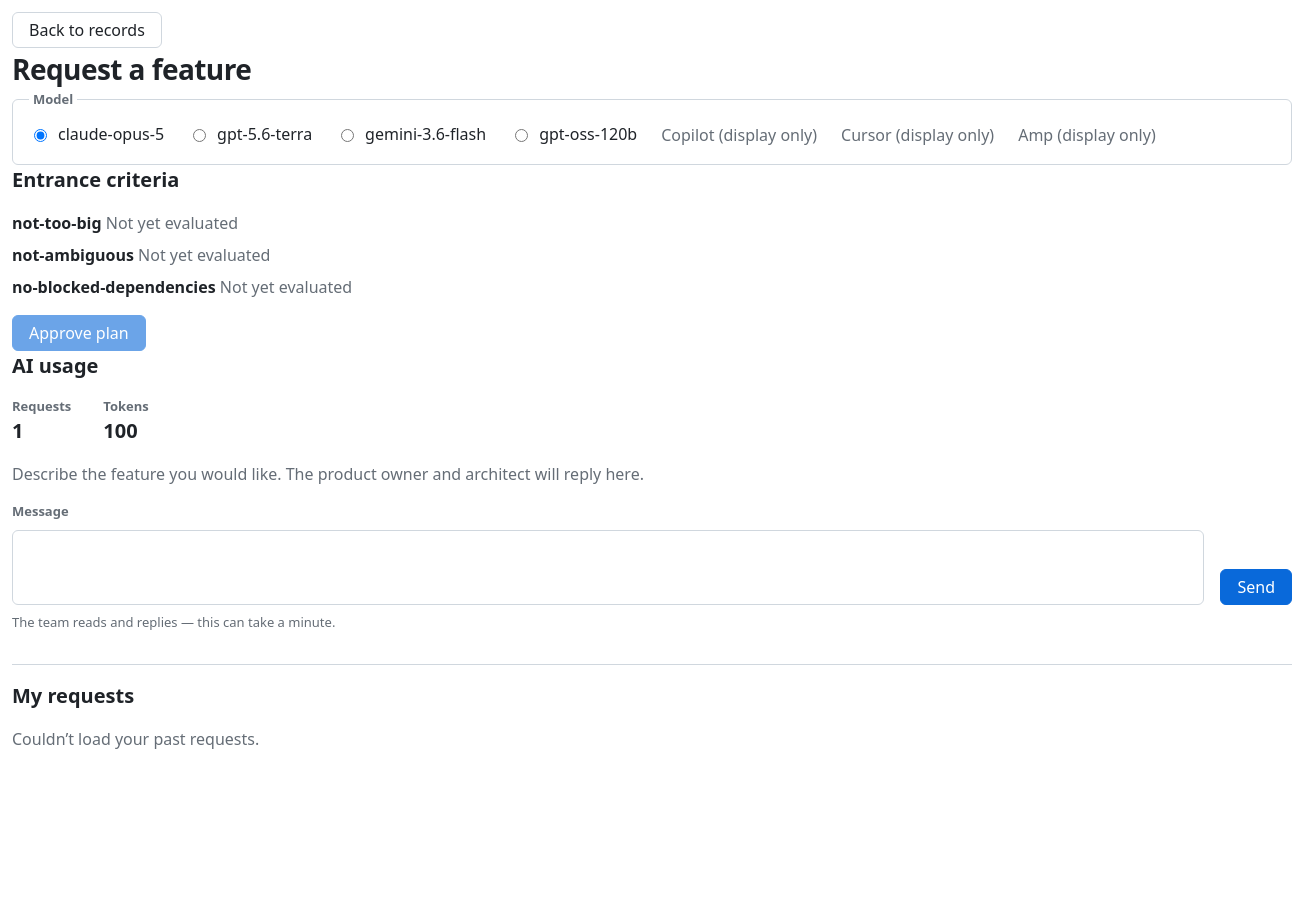
Scenario: DAN-66 tester · criterion 3: DAN-54 behavior holds with a non-default model › QUOTA_EXHAUSTED still shows the friendly panel and disables the composer when gemini-3.6-flash is selected
The image size is (1304, 912).
Expected: the text "Requests" is shown, x1=12 y1=396 x2=71 y2=416
Click the radio button labelled "gemini-3.6-flash" at x=348, y=135, box x1=341 y1=128 x2=354 y2=142
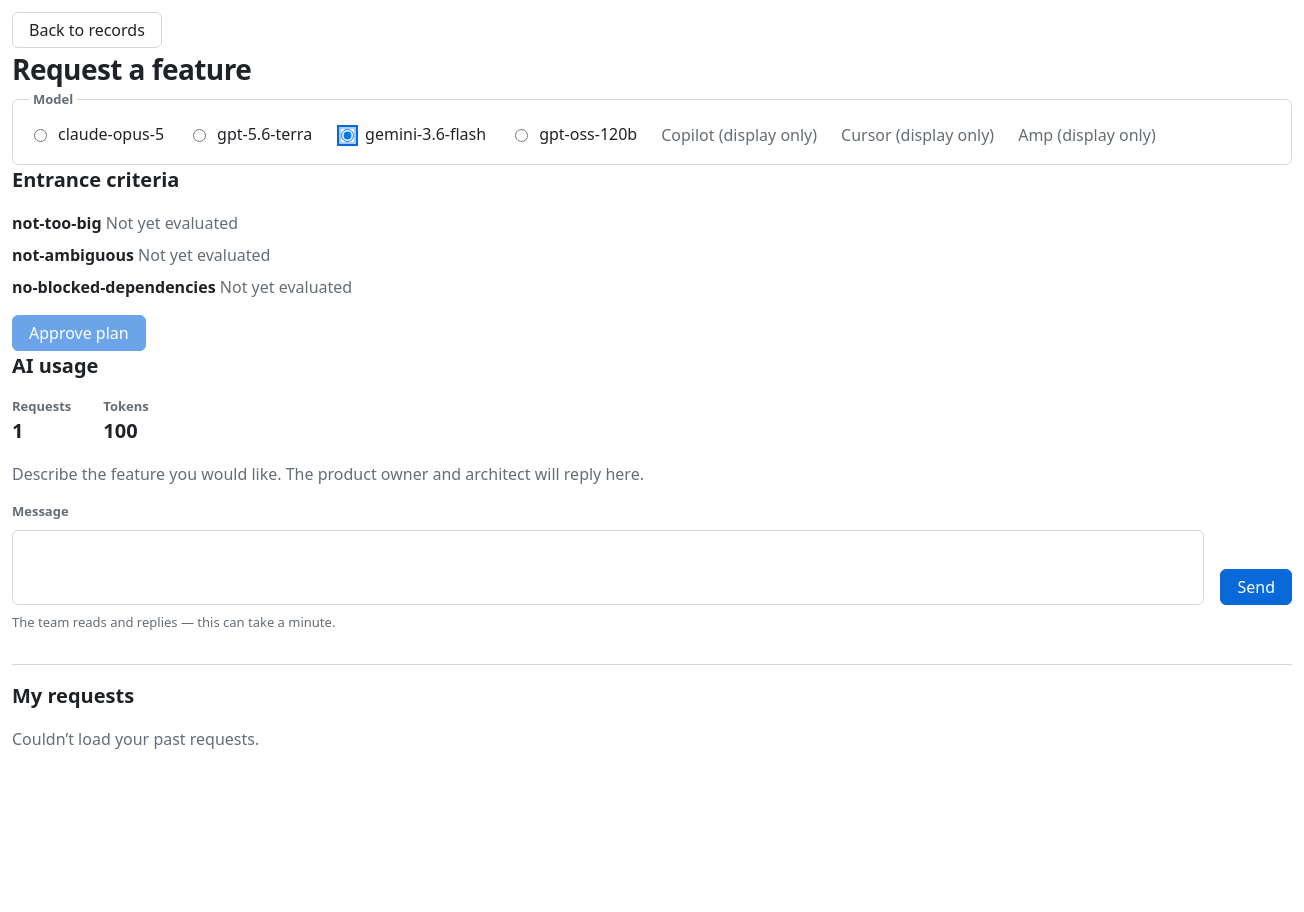
Type "Export the table as CSV" into the text box labelled "Message" at x=608, y=567, box x1=12 y1=530 x2=1204 y2=604
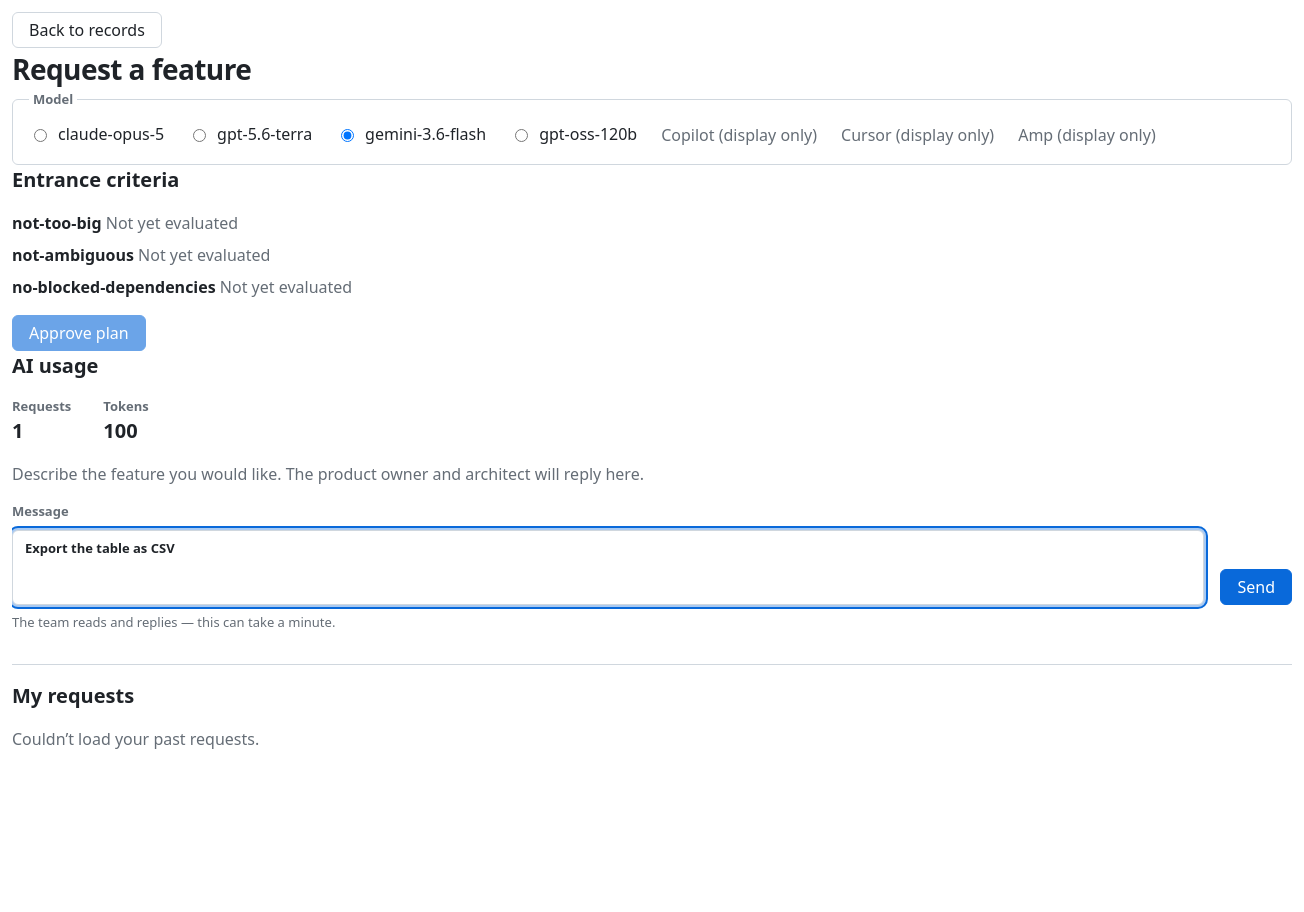
Click the button "Send" at x=1256, y=586, box x1=1220 y1=568 x2=1292 y2=604
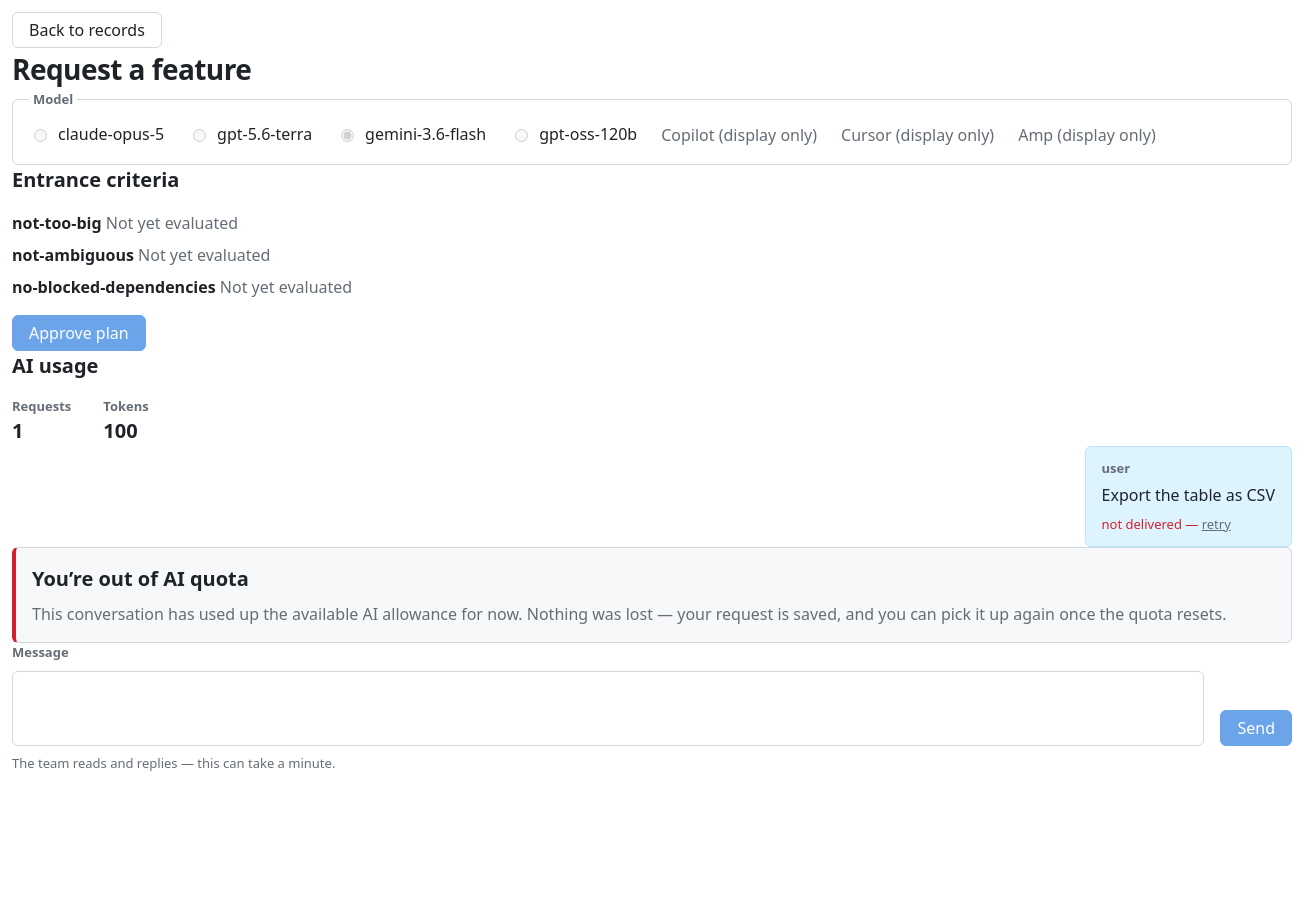
Expected: the message shows "quota", x1=32 y1=565 x2=249 y2=592
Expected: the text box labelled "Message" is disabled, x1=12 y1=670 x2=1204 y2=746
Expected: the button "Send" is disabled, x1=1220 y1=710 x2=1292 y2=746
